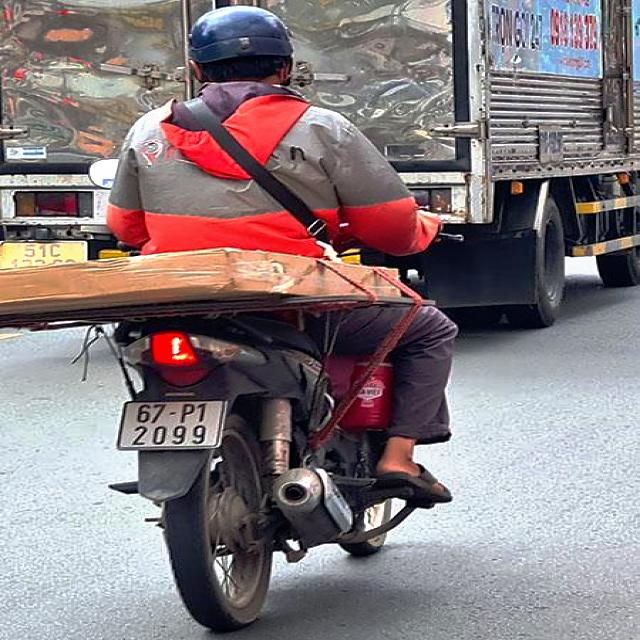license_plate: (120, 402, 224, 448)
